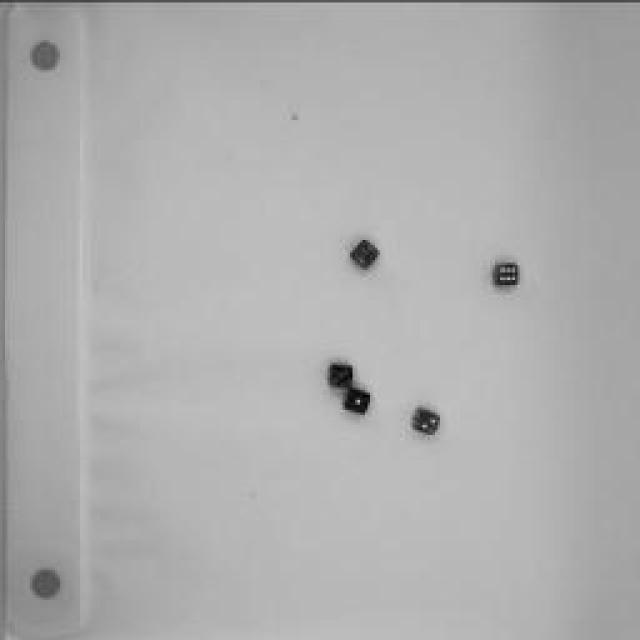dice_1: (341, 390, 371, 415)
dice_2: (407, 405, 445, 435)
dice_3: (325, 361, 355, 389)
dice_4: (345, 236, 383, 266)
dice_6: (490, 260, 520, 288)
